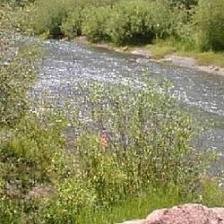neutral: (6, 8, 224, 222)
